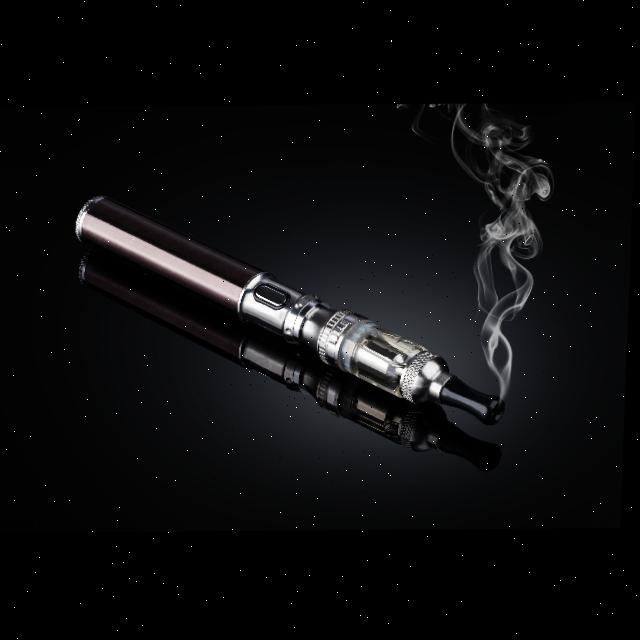vape: (70, 187, 517, 432)
